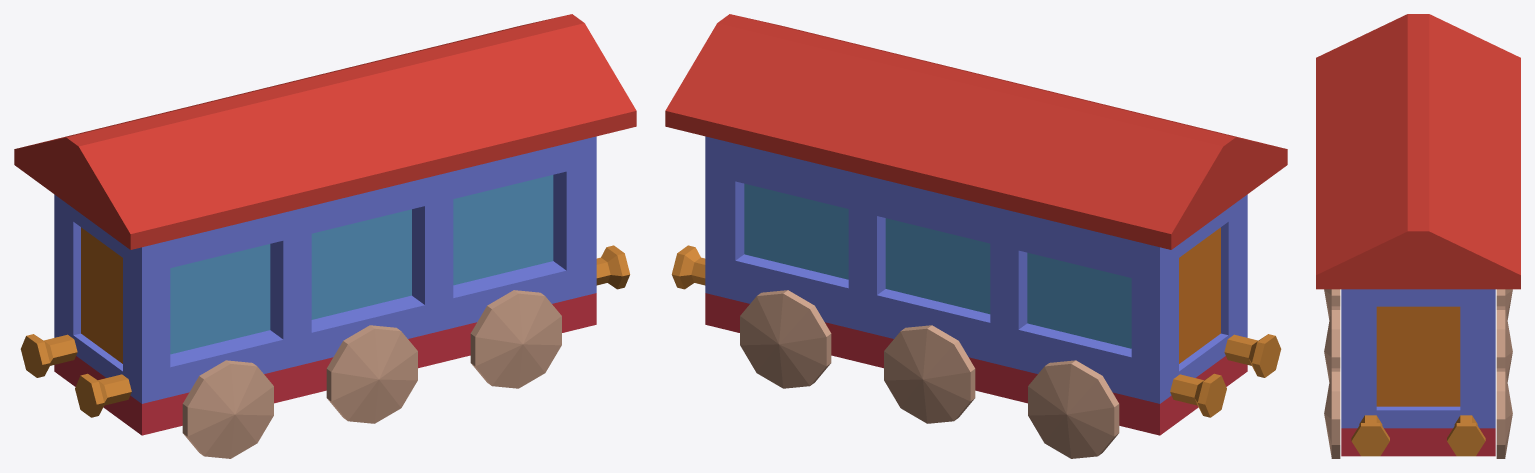
File: trainCarriage.fbx
The picture shows the model from 3 angles, left to right: view 1: azimuth 30°, elevation 25°; view 2: azimuth 150°, elevation 25°; view 3: azimuth 270°, elevation 25°; orthographic projection. The views are drawn at different scales.
Visible parts, largest first — view 1: Machine.001, BWheels2, BWheels2.003, BWheels2.002, Joint.001, Joint.002; view 2: Machine.001, BWheels2, BWheels2.003, BWheels2.002, Joint.001, Joint.002; view 3: Machine.001, BWheels2, Joint.002, BWheels2.002, BWheels2.003.
Boxes of the visible parts, x1,y1,x2,y2 form: Machine.001: (14,14,636,435); BWheels2: (470,290,561,388); BWheels2.003: (182,360,273,458); BWheels2.002: (326,325,417,423); Joint.001: (20,334,131,417); Joint.002: (596,245,630,289); Machine.001: (665,14,1287,435); BWheels2: (740,290,831,388); BWheels2.003: (1028,360,1119,458); BWheels2.002: (884,325,975,423); Joint.001: (1170,334,1281,417); Joint.002: (671,245,705,289); Machine.001: (1316,14,1520,456); BWheels2: (1324,368,1512,458); Joint.002: (1351,415,1485,456); BWheels2.002: (1324,306,1512,381); BWheels2.003: (1324,289,1512,319).
Size of the model in its own units: 704 by 388 by 266.
